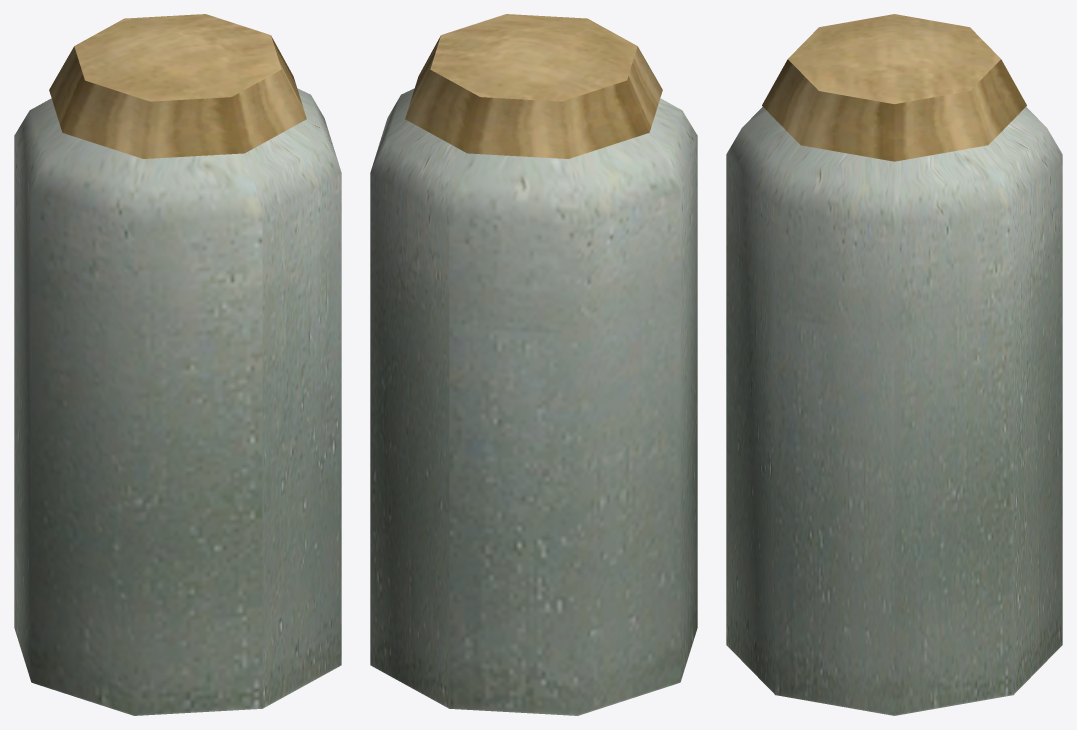
File: edb_con_tato_jar_spice_s03_l0.fbx
3 renders of one model, left to right at view 1: azimuth 30°, elevation 25°; view 2: azimuth 150°, elevation 25°; view 3: azimuth 270°, elevation 25°, orthographic.
Visible parts, largest first — view 1: mesh_node; view 2: mesh_node; view 3: mesh_node.
Part boxes in pixels (<box>): mesh_node: <box>14,14,341,715</box>; mesh_node: <box>370,14,697,715</box>; mesh_node: <box>726,14,1062,715</box>.
Bounding box in the file's own units: 0.1476 × 0.2897 × 0.1476.
Materials: 3 (3 with a texture image).
